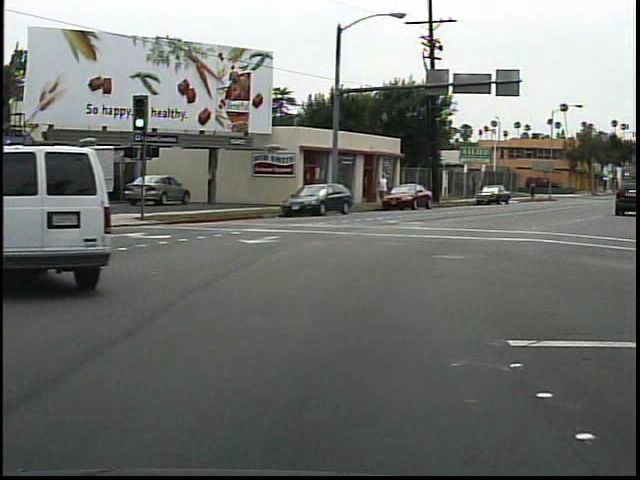person: (373, 167, 395, 209), (526, 178, 539, 202)
